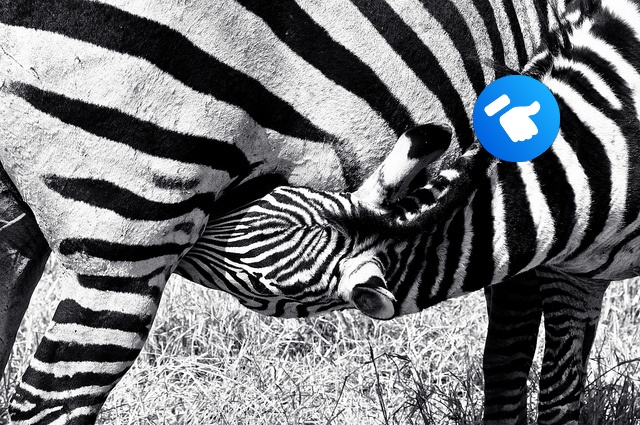like: (473, 75, 560, 162)
